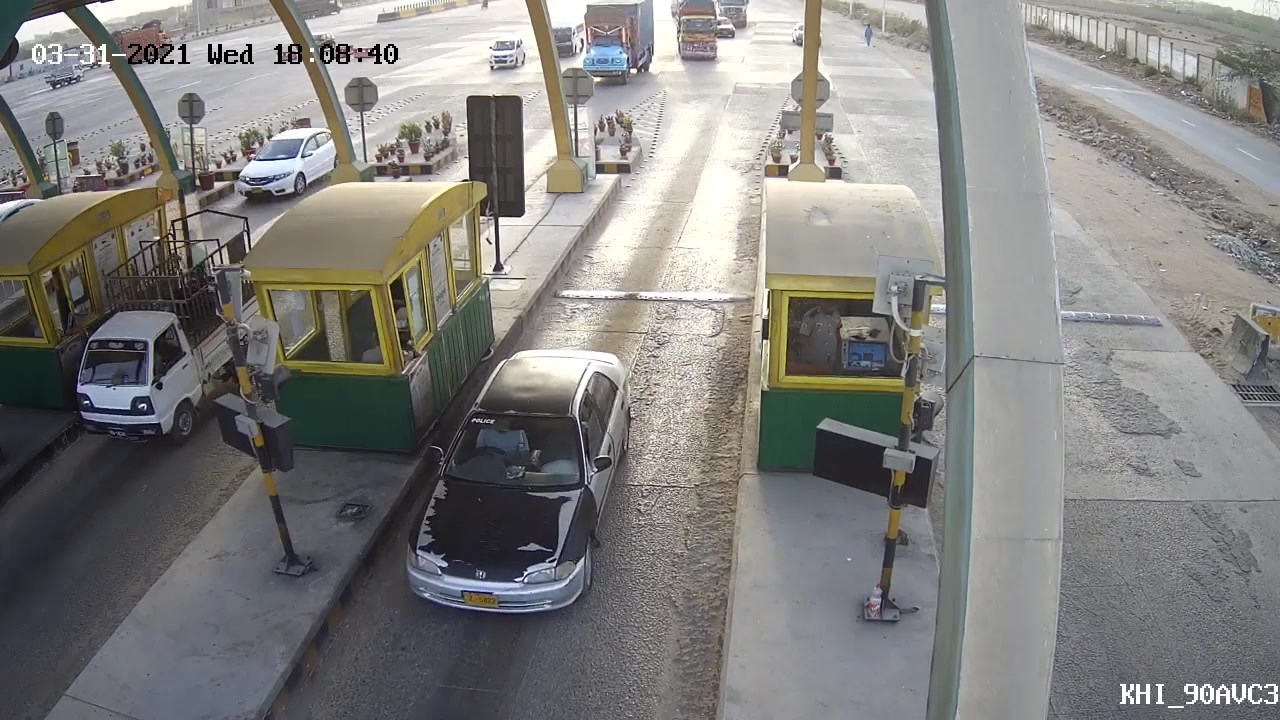F1: (398, 346, 641, 621)
